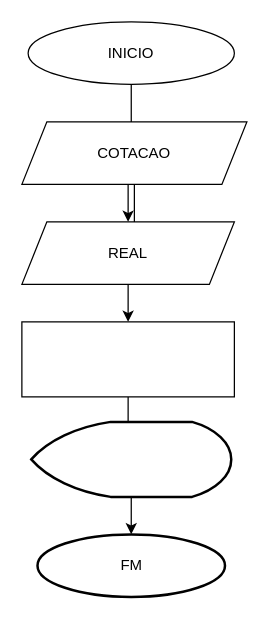
This 269x620 diagram has some shape labels left out. The shapes that lost their labels are listed below. From the top down, each one's centre as x and y in pixels, then its label:
At point (127, 359): "DOLAR=REAL/COTACAO".
At point (130, 459): "DOLAR".
